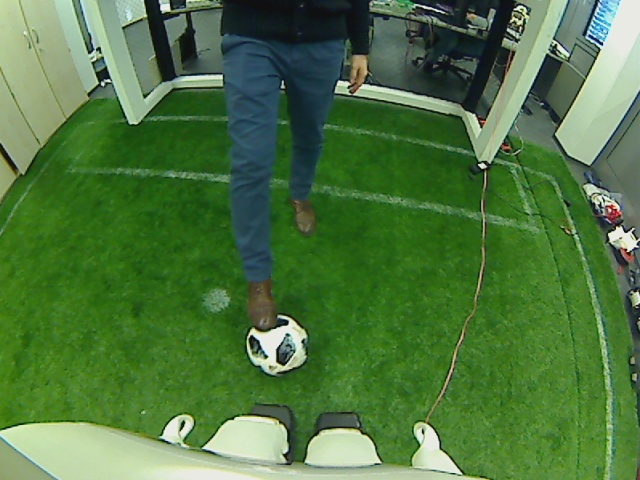ball: (245, 311, 307, 375)
